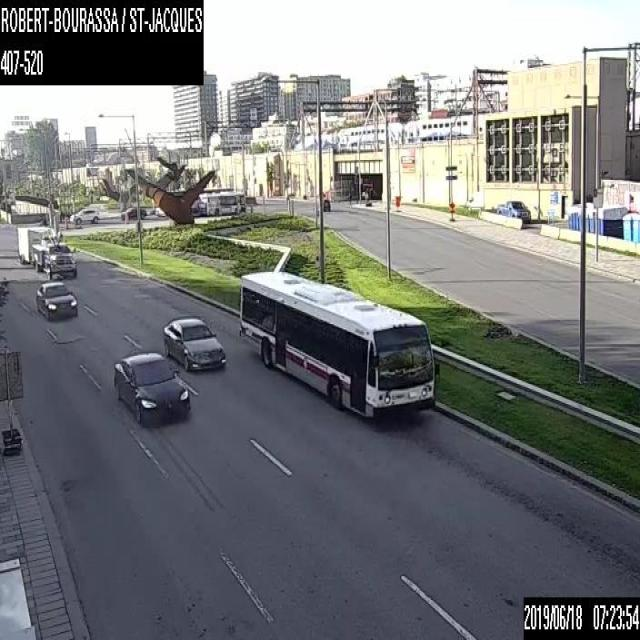bus: (238, 266, 437, 418), (196, 189, 246, 216)
construction: (394, 194, 400, 211), (449, 201, 454, 220)
vehicle: (112, 352, 188, 426), (163, 315, 226, 370), (17, 224, 77, 276), (36, 282, 78, 320), (496, 200, 530, 222), (70, 206, 99, 222), (119, 207, 146, 220), (322, 198, 330, 210)
